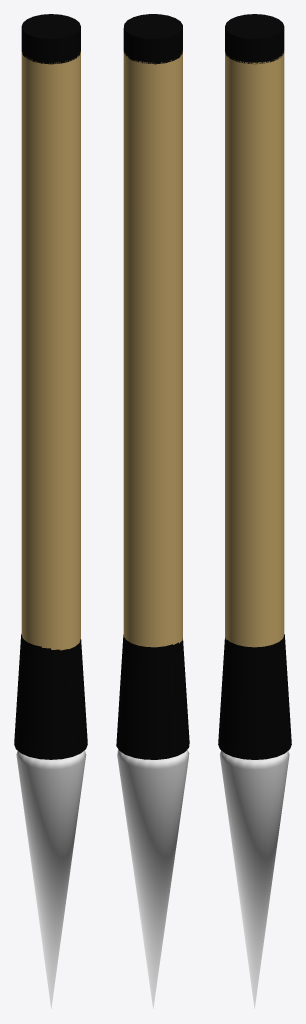
Rendered from brush-longer.fbx.
3 views of the same model, side by side, from view 1: azimuth 90°, elevation 25°; view 2: azimuth 150°, elevation 25°; view 3: azimuth 270°, elevation 25° (orthographic).
Parts seen in each view (by area): view 1: polySurface3, polySurface2, polySurface4, polySurface1; view 2: polySurface3, polySurface2, polySurface4, polySurface1; view 3: polySurface3, polySurface2, polySurface4, polySurface1.
Boxes of the visible parts, bbox=[...] form: polySurface3: bbox=[21, 51, 80, 650]; polySurface2: bbox=[16, 750, 86, 1008]; polySurface4: bbox=[14, 634, 87, 759]; polySurface1: bbox=[21, 14, 80, 64]; polySurface3: bbox=[123, 51, 182, 647]; polySurface2: bbox=[117, 749, 189, 1008]; polySurface4: bbox=[116, 634, 189, 759]; polySurface1: bbox=[123, 14, 182, 64]; polySurface3: bbox=[225, 52, 284, 647]; polySurface2: bbox=[219, 750, 289, 1008]; polySurface4: bbox=[218, 634, 291, 759]; polySurface1: bbox=[225, 14, 284, 64].
Bounding box in the file's own units: 1.03 × 15.11 × 1.03.
